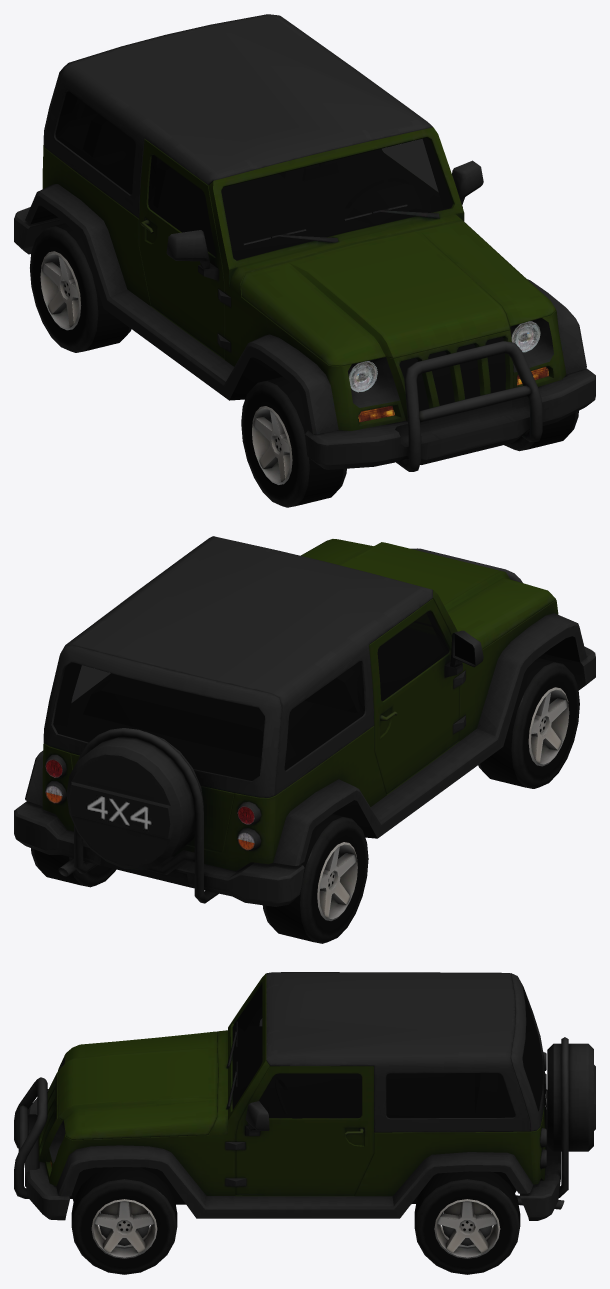
File: offroad.glb
3 renders of one model, top to bottom at view 1: azimuth 30°, elevation 25°; view 2: azimuth 150°, elevation 25°; view 3: azimuth 270°, elevation 25°, orthographic. The views are drawn at different scales.
Visible parts, largest first — view 1: Offroad Body_Body_0, Offroad Body_Glass_0, Wheel_G001_Wheel_0, Wheel_G002_Wheel_0, Offroad Body_Optics_0, Wheel_G_Wheel_0; view 2: Offroad Body_Body_0, Offroad Body_Glass_0, Wheel_G001_Wheel_0 (×2), Wheel_G002_Wheel_0, Offroad Body_Optics_0; view 3: Offroad Body_Body_0, Offroad Body_Glass_0, Wheel_G_Wheel_0, Wheel_G001_Wheel_0.
Boxes of the visible parts, x1,y1,x2,y2 form: Offroad Body_Body_0: (14, 14, 595, 471); Offroad Body_Glass_0: (55, 91, 452, 260); Wheel_G001_Wheel_0: (241, 376, 346, 507); Wheel_G002_Wheel_0: (30, 223, 131, 352); Offroad Body_Optics_0: (349, 321, 548, 422); Wheel_G_Wheel_0: (504, 411, 578, 451); Offroad Body_Body_0: (14, 536, 595, 906); Offroad Body_Glass_0: (53, 611, 449, 780); Wheel_G001_Wheel_0 (×2): (31, 658, 579, 887); Wheel_G002_Wheel_0: (263, 814, 368, 943); Offroad Body_Optics_0: (45, 759, 254, 850); Offroad Body_Body_0: (14, 972, 595, 1220); Offroad Body_Glass_0: (232, 984, 542, 1118); Wheel_G_Wheel_0: (71, 1167, 177, 1274); Wheel_G001_Wheel_0: (414, 1171, 520, 1274).
Bounding box in the file's own units: 1.96 × 1.57 × 3.94.
Materials: 4 (3 with a texture image).
